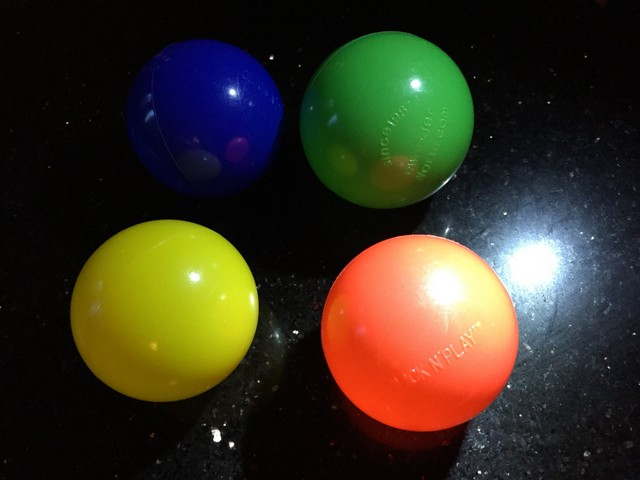Ball: (317, 235, 518, 428)
